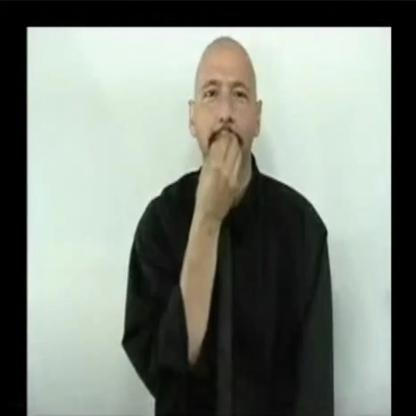Food: (178, 23, 292, 242)
